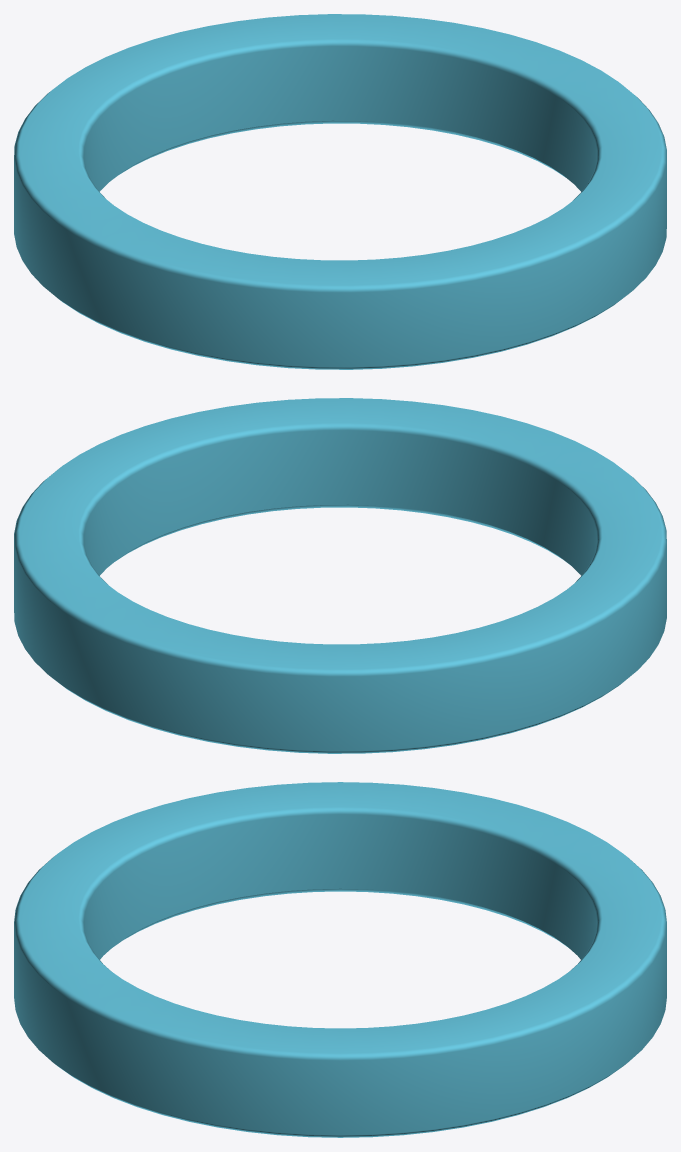
3 renders of one model, top to bottom at view 1: azimuth 30°, elevation 25°; view 2: azimuth 150°, elevation 25°; view 3: azimuth 270°, elevation 25°, orthographic.
Visible parts, largest first — view 1: seal_body; view 2: seal_body; view 3: seal_body.
Part boxes in pixels (left/top/right/bottom): seal_body: left=14, top=14, right=666, bottom=369; seal_body: left=14, top=398, right=666, bottom=753; seal_body: left=14, top=782, right=666, bottom=1137.
Bounding box in the file's own units: 0.0444 × 0.00635 × 0.0444.
